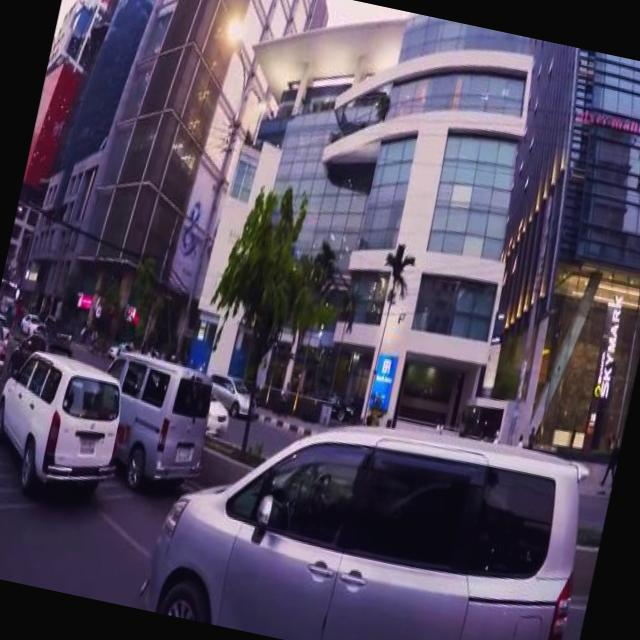car: (0, 339, 130, 495), (203, 366, 261, 414), (204, 389, 234, 436), (0, 313, 14, 382), (18, 306, 39, 332)
truck: (137, 374, 600, 640), (86, 341, 220, 489)
